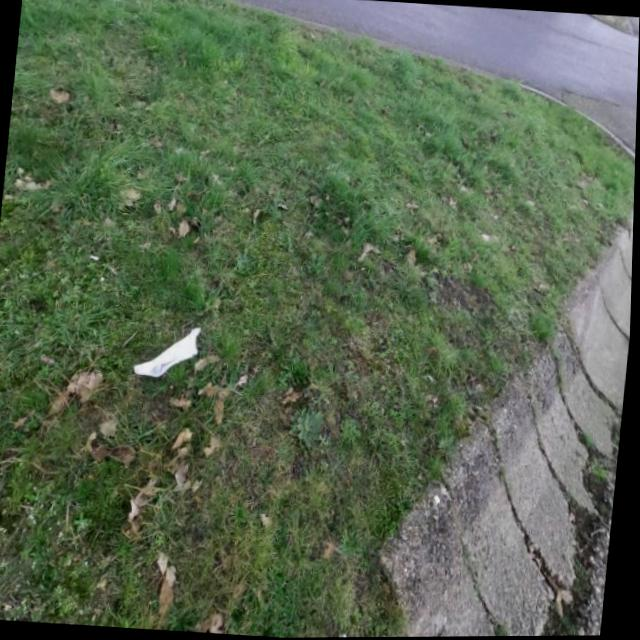Paper: (135, 323, 203, 379)
